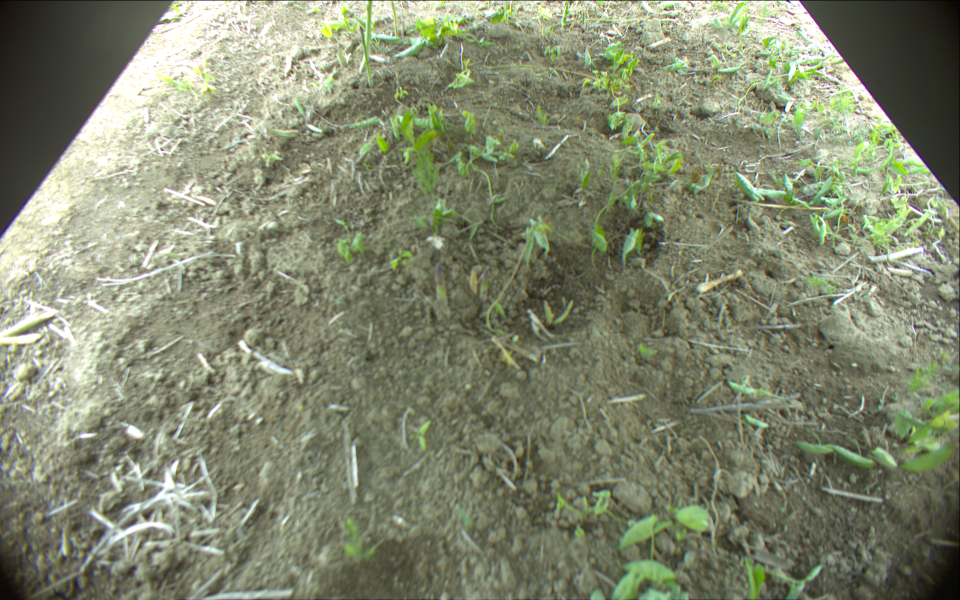aspa: (485, 64, 600, 82), (358, 26, 375, 82), (362, 1, 372, 70), (433, 262, 450, 300), (478, 265, 491, 303), (389, 1, 399, 37)
